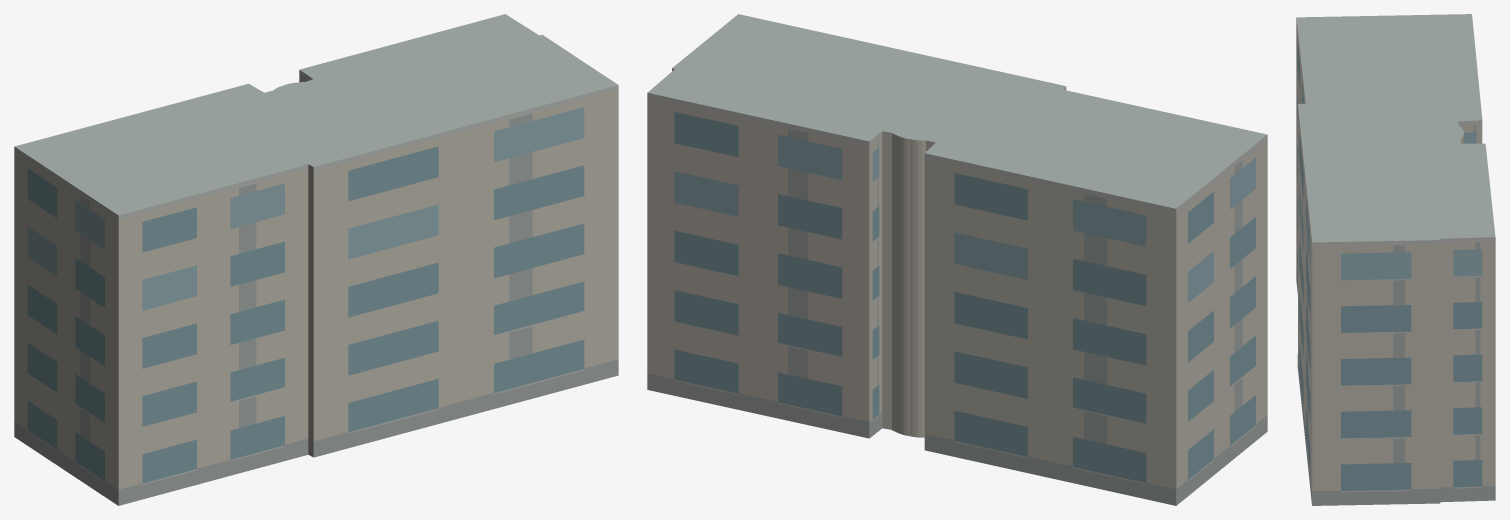
File: survey-upis-32799720.glb
The picture shows the model from 3 angles, left to right: view 1: azimuth 30°, elevation 25°; view 2: azimuth 150°, elevation 25°; view 3: azimuth 270°, elevation 25°; orthographic projection. The views are drawn at different scales.
Visible parts, largest first — view 1: survey-upis-32799720.tmp; view 2: survey-upis-32799720.tmp; view 3: survey-upis-32799720.tmp.
Part boxes in pixels (<box>): survey-upis-32799720.tmp: <box>14,14,618,505</box>; survey-upis-32799720.tmp: <box>647,14,1267,505</box>; survey-upis-32799720.tmp: <box>1296,14,1495,505</box>.
Bounding box in the file's own units: 25.86 × 13.9 × 9.53.
